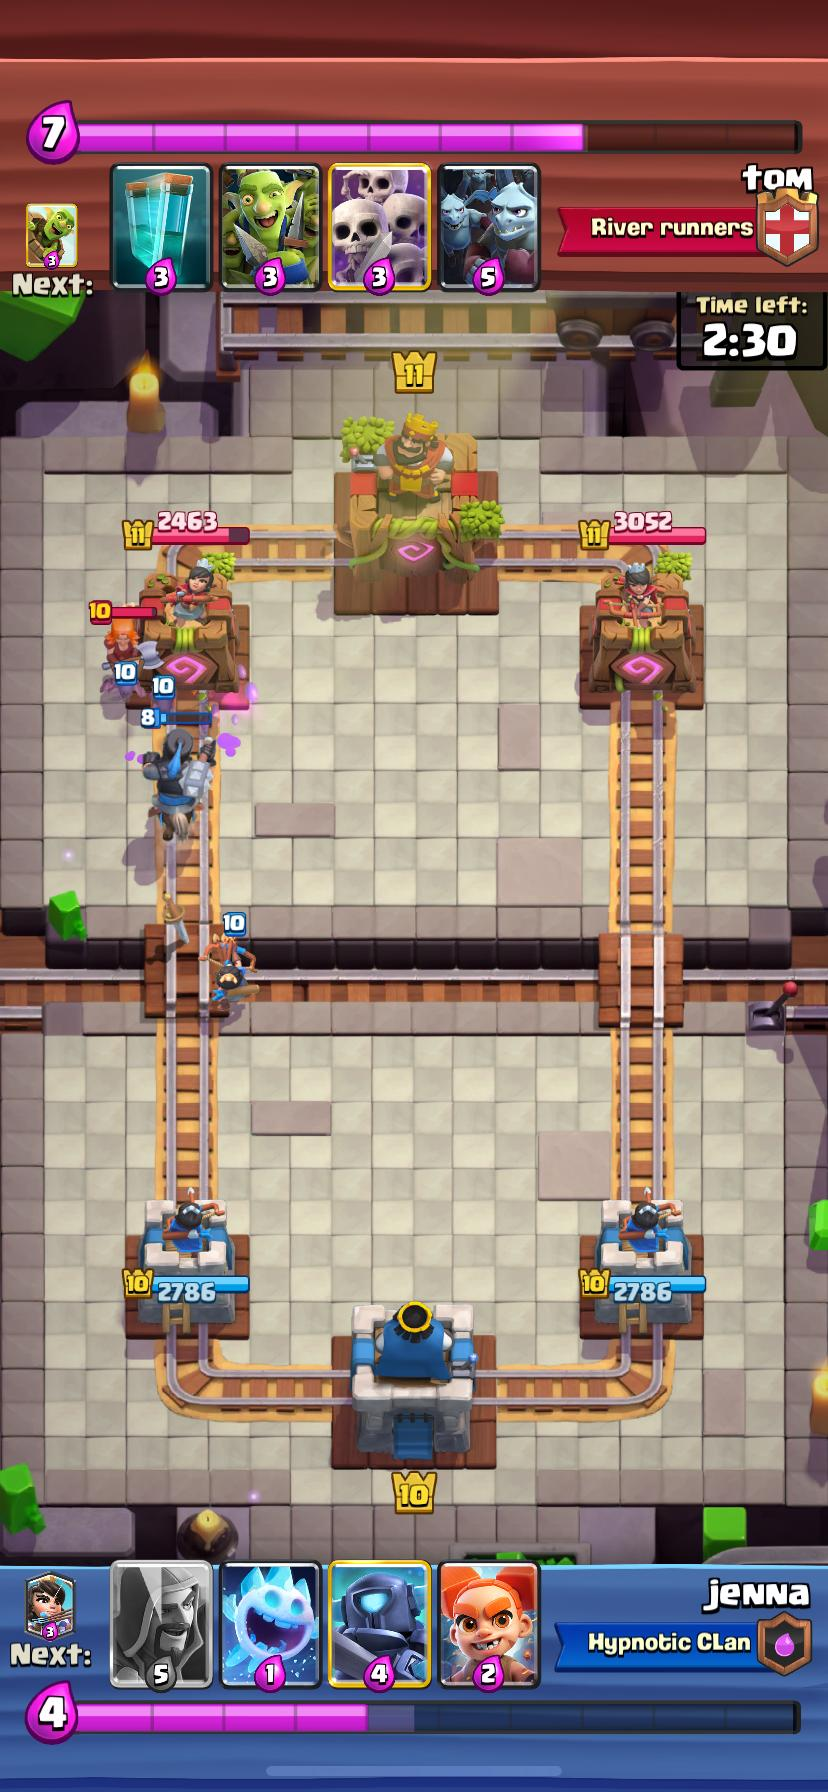EValk: (104, 617, 140, 667)
EnemyPrincessTower: (140, 546, 239, 691), (588, 557, 693, 693)
ODarkPrince: (144, 726, 208, 841)
OPrincess: (334, 413, 502, 581), (204, 934, 257, 1013)
OwnKingTower: (351, 1302, 477, 1459)
OwnPrincessTower: (133, 1200, 248, 1331), (590, 1200, 704, 1331)
